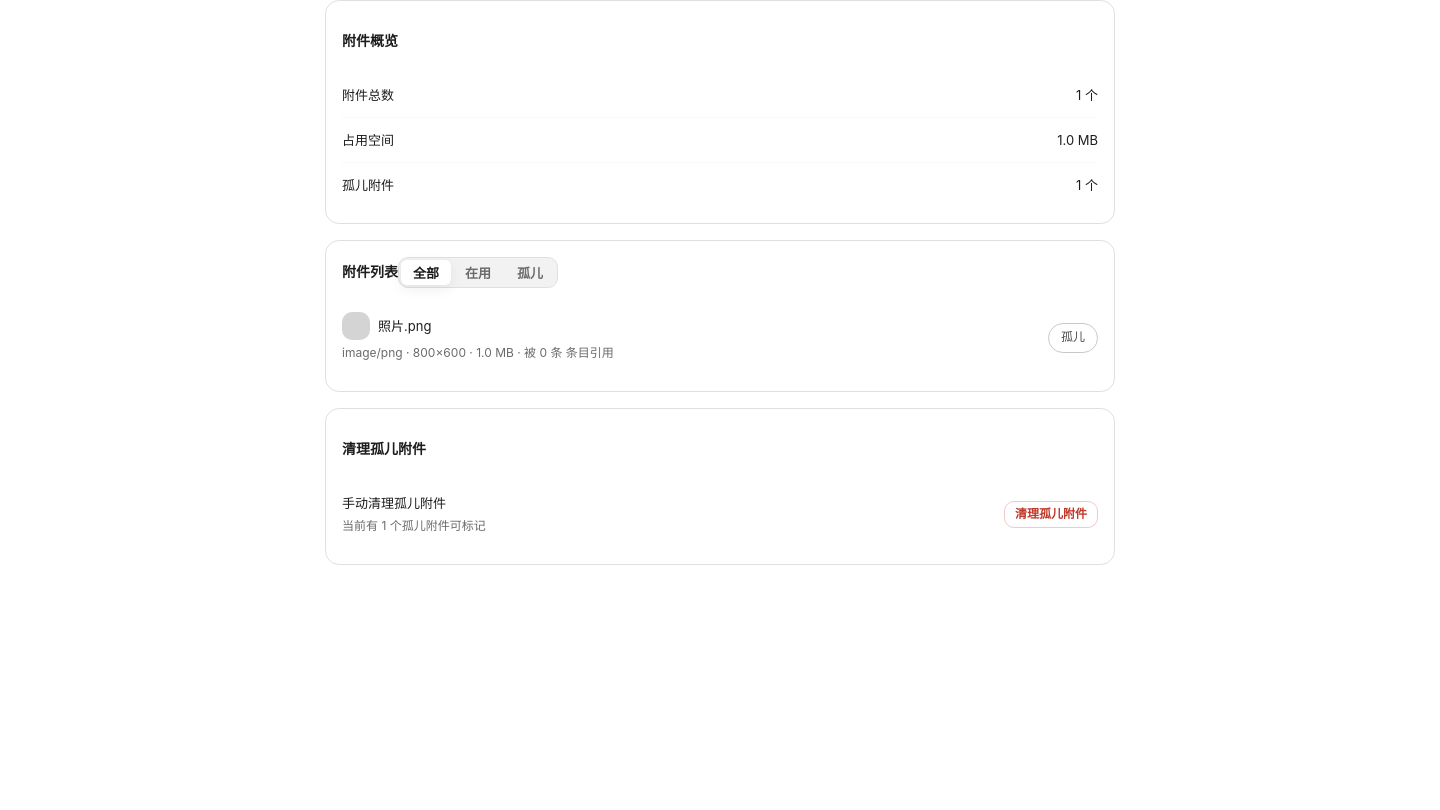
Test: 失败 › 清理失败：错误可见、确认框不消失（可以再试）
expect the heading "附件概览" is shown: met, box x1=342 y1=17 x2=442 y2=61
Click the button "清理孤儿附件": [1051, 514] box x1=1004 y1=501 x2=1098 y2=528
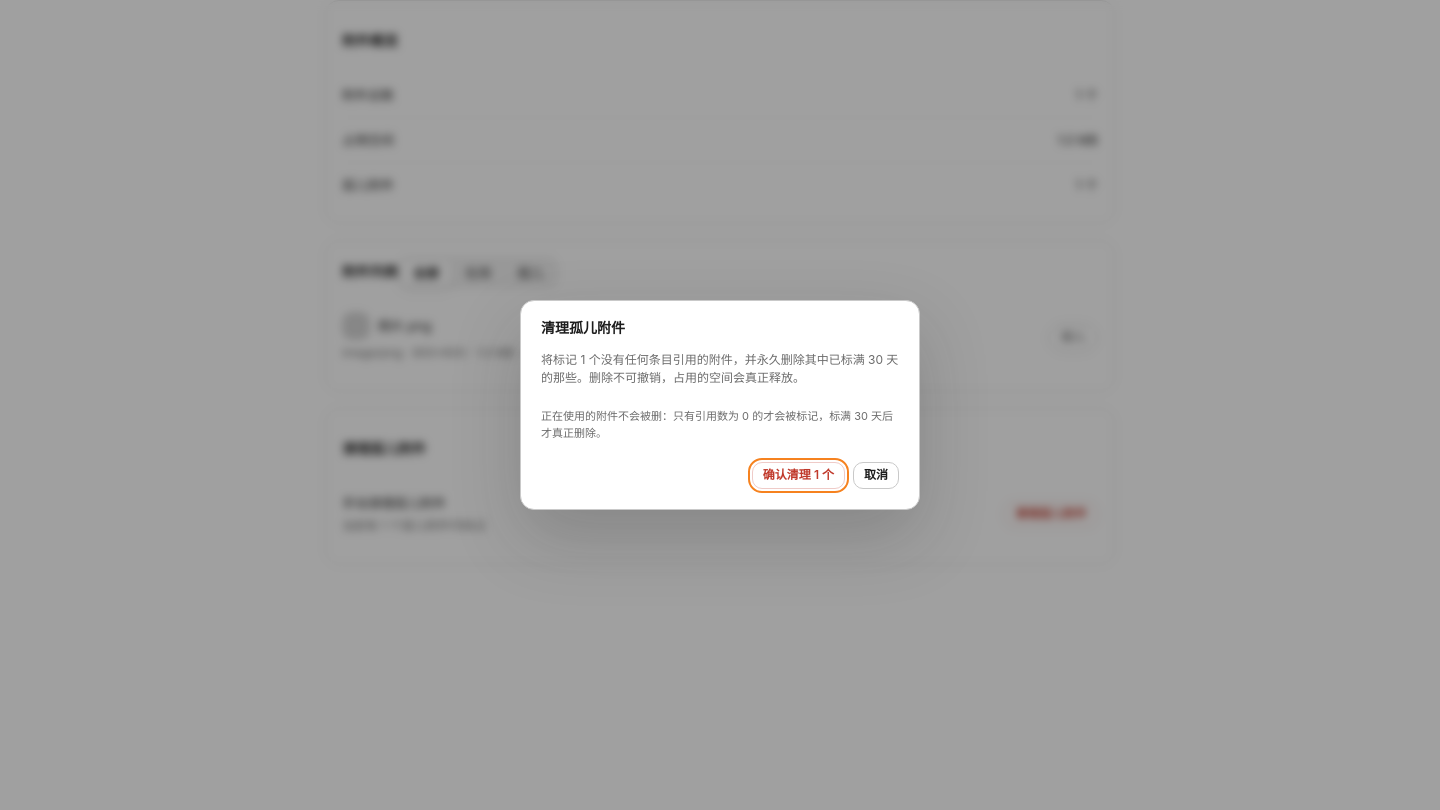
Click the button "确认清理 1 个": [798, 476] box x1=752 y1=462 x2=845 y2=489
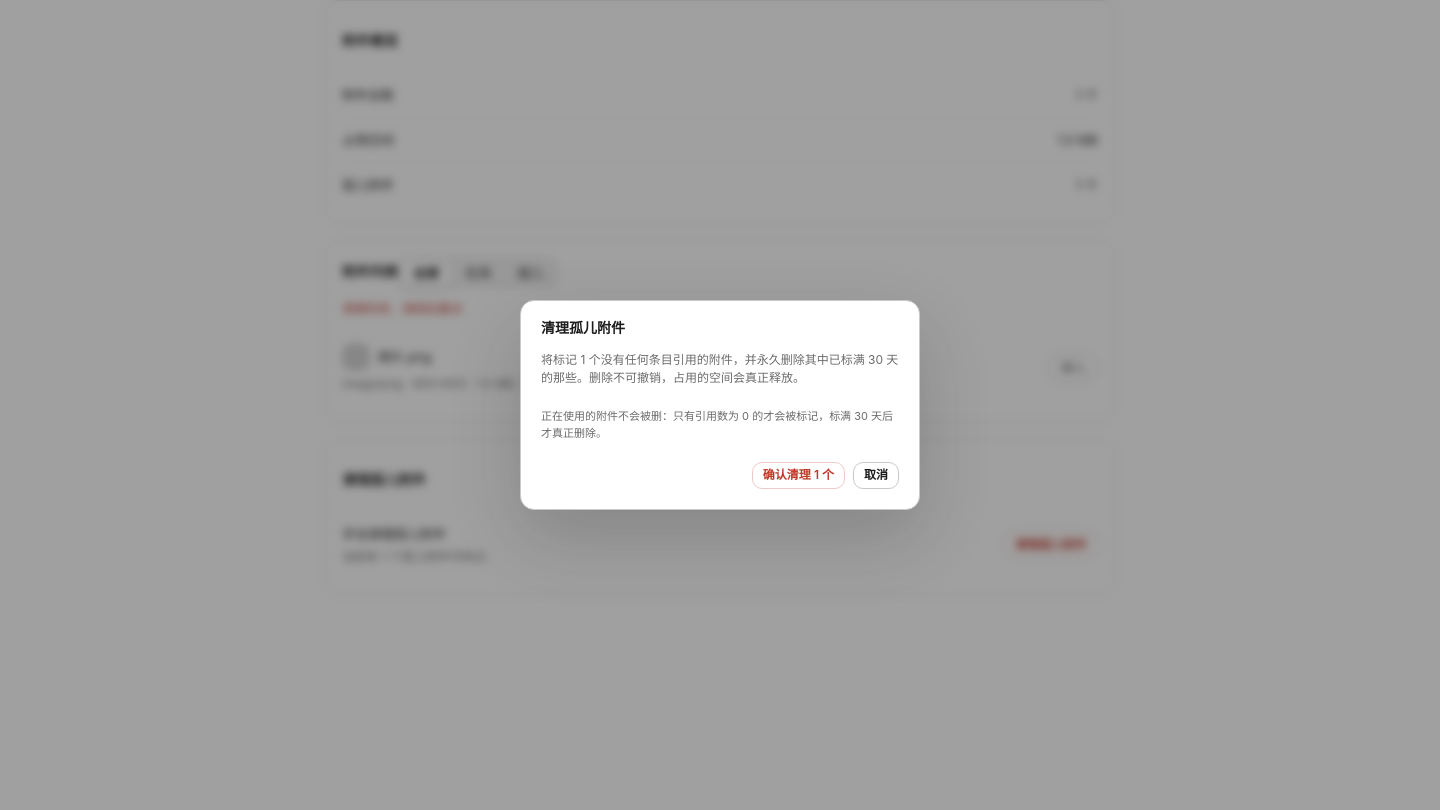
expect the message shows "清理失败": met, box x1=342 y1=301 x2=462 y2=316
